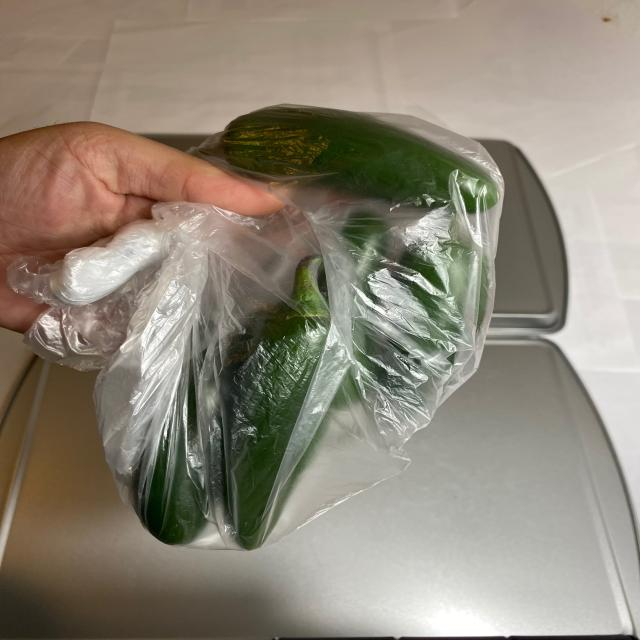chilli: (127, 105, 516, 556)
